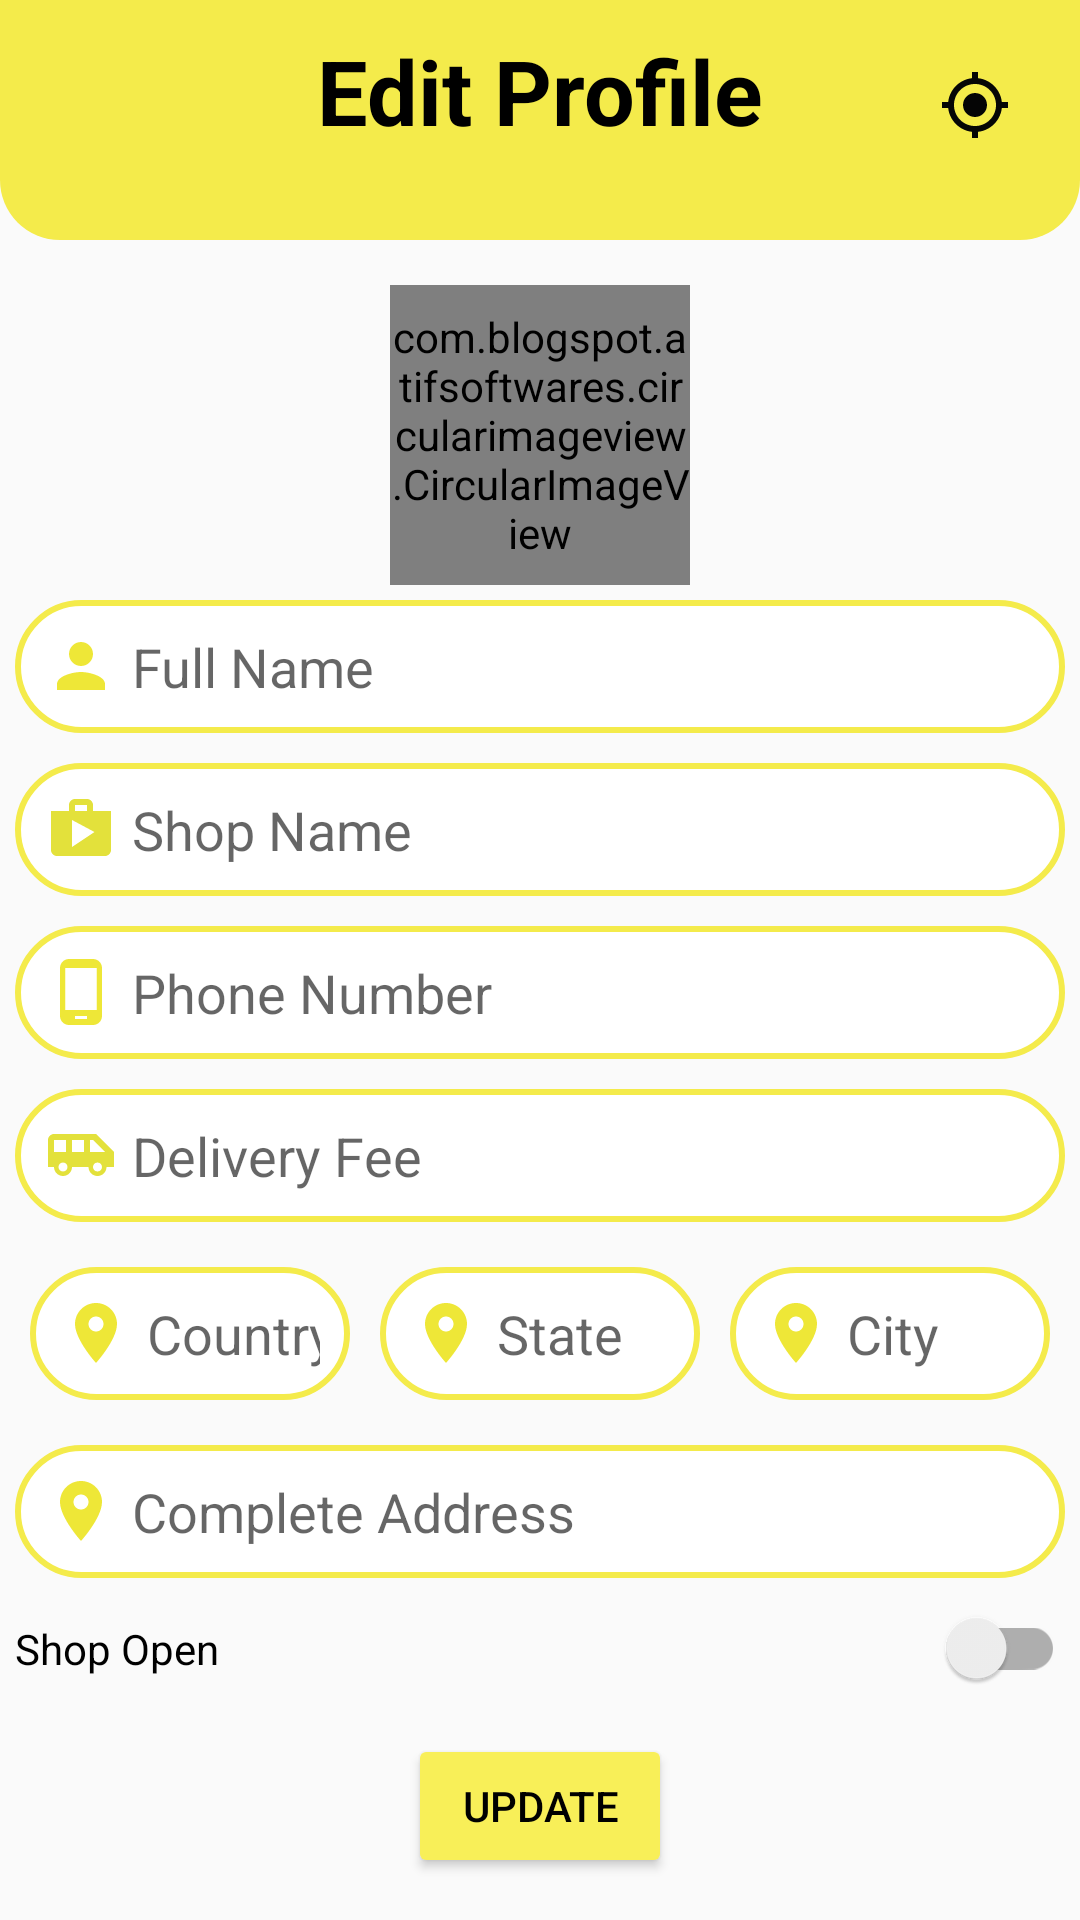

Icons on this 1080px x 1920px Android screen, each with the point to tap as point (x, y):
gps fixed: point (975, 105)
